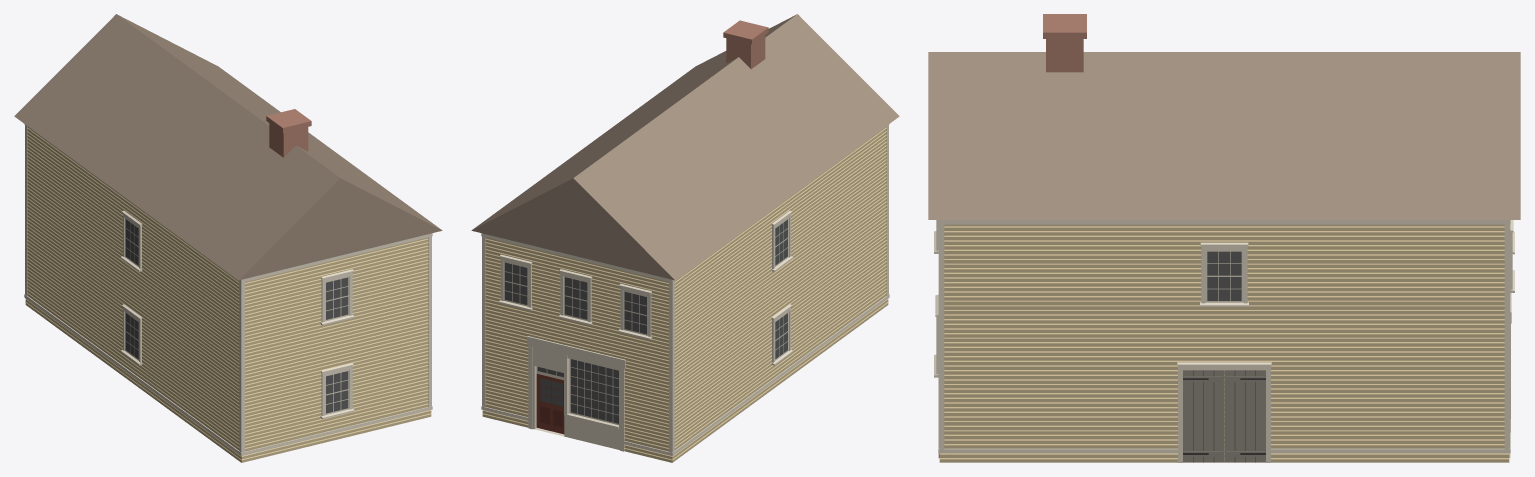
The model's file is recon_1835_blk_south_water_wells_c3_02__inferred_1835.glb.
3 renders of one model, left to right at view 1: azimuth 30°, elevation 25°; view 2: azimuth 150°, elevation 25°; view 3: azimuth 270°, elevation 25°, orthographic. The views are drawn at different scales.
Parts seen in each view (by area): view 1: recon_1835_blk_south_water_wells_c3_02__inferred_1835; view 2: recon_1835_blk_south_water_wells_c3_02__inferred_1835; view 3: recon_1835_blk_south_water_wells_c3_02__inferred_1835.
Boxes of the visible parts, bbox=[...] form: recon_1835_blk_south_water_wells_c3_02__inferred_1835: bbox=[14, 14, 442, 462]; recon_1835_blk_south_water_wells_c3_02__inferred_1835: bbox=[471, 14, 899, 462]; recon_1835_blk_south_water_wells_c3_02__inferred_1835: bbox=[928, 14, 1520, 462].
Bounding box in the file's own units: 6.95 × 9.31 × 13.22.
